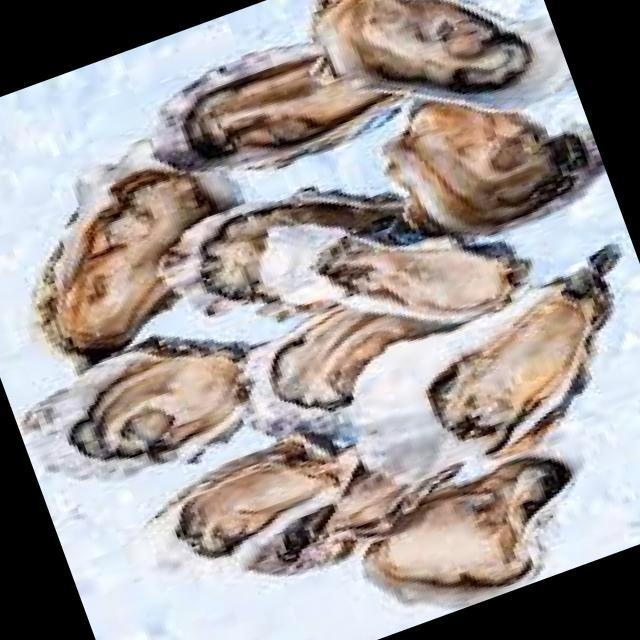Oyster-Open: (35, 141, 238, 357), (429, 245, 620, 456), (156, 189, 410, 318), (20, 338, 249, 478), (152, 44, 391, 169), (314, 0, 570, 106), (259, 225, 528, 324), (384, 102, 588, 232), (365, 458, 571, 586), (178, 434, 338, 556), (246, 306, 395, 436)
